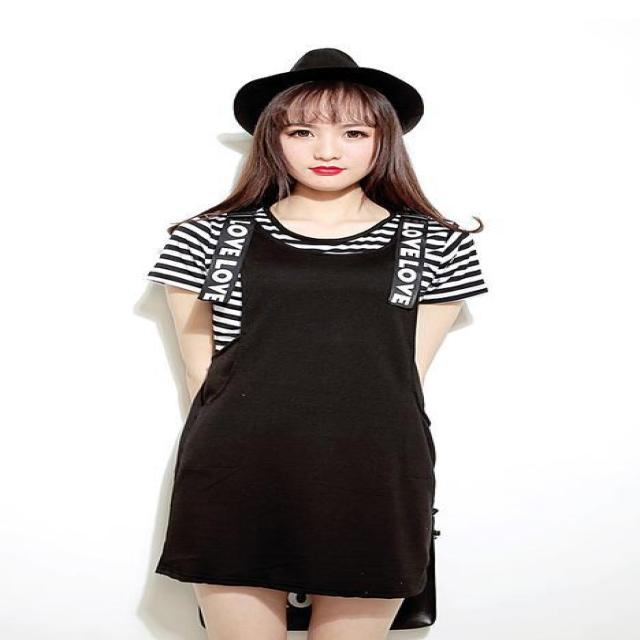short-sleeve-dress: (102, 184, 521, 591)
